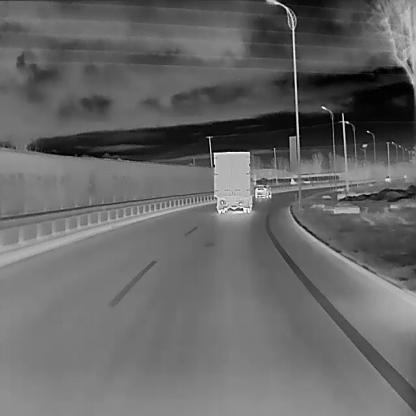car: (212, 149, 256, 213), (254, 182, 272, 197), (384, 174, 391, 181)
